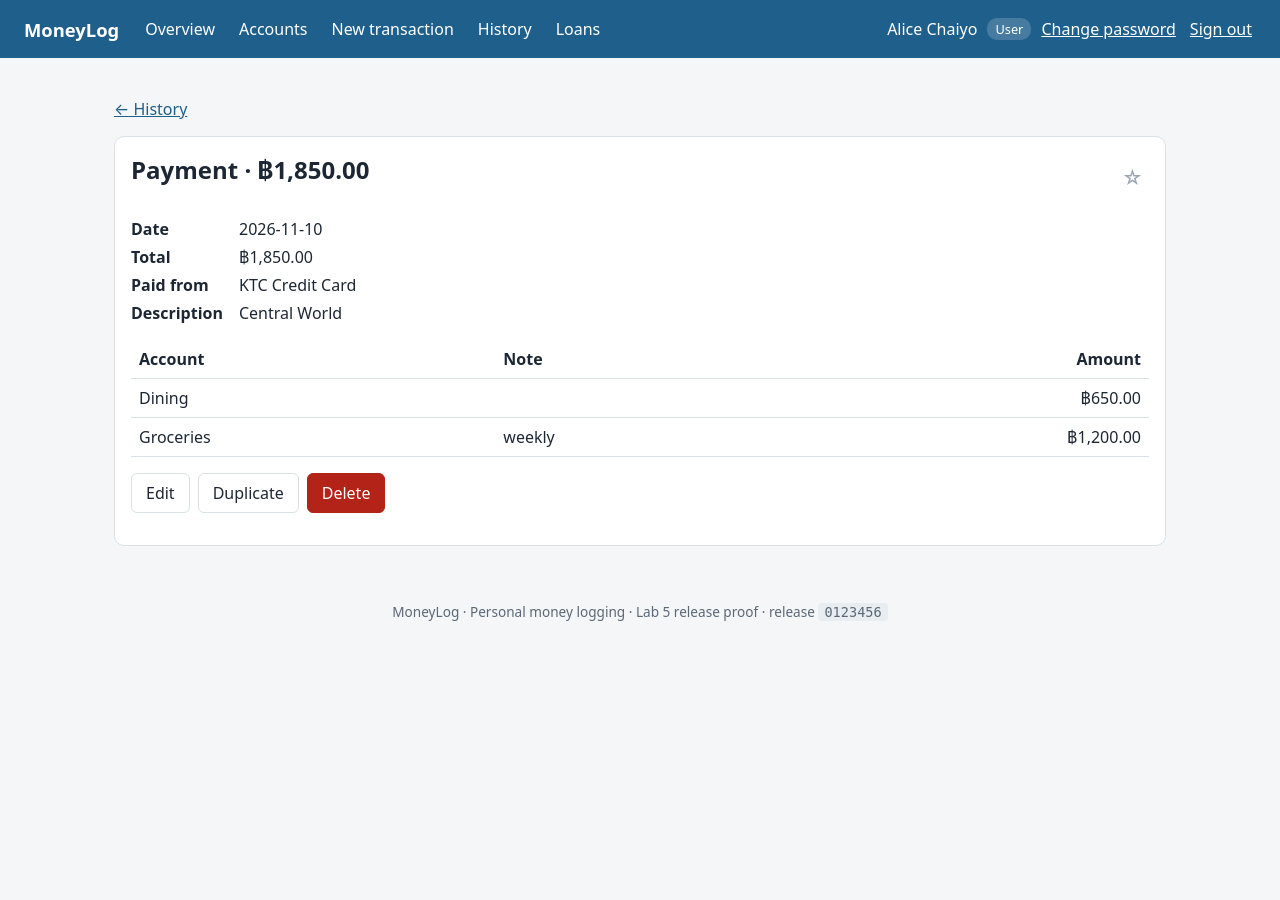
Test: TEST-77 edit and delete from the detail page (AC-57) › Delete asks for confirmation, then deletes and returns to History
Click the button "Delete" at (346, 493), box [307,473,386,513]
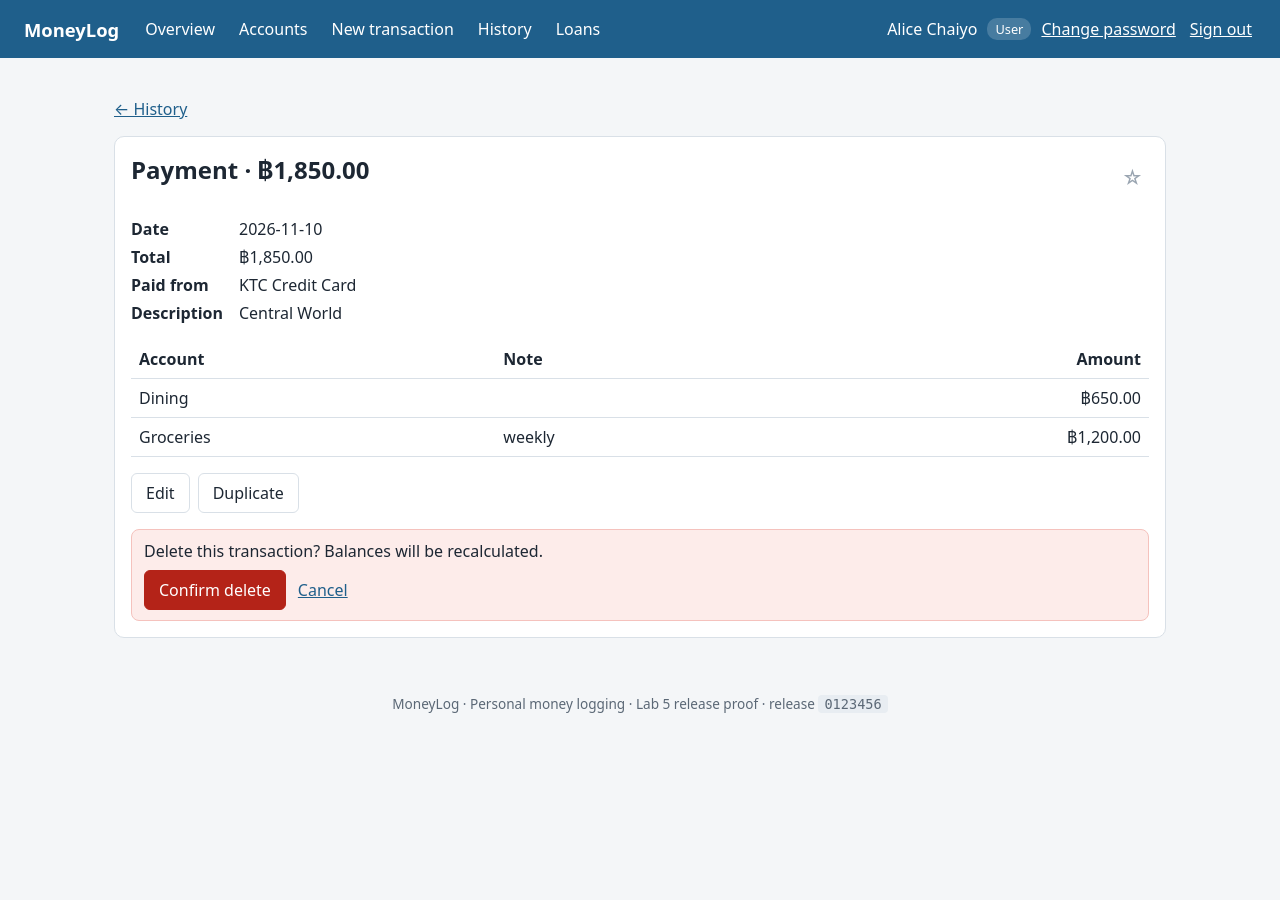
Check: the text "Delete this transaction? Balances will be recalculated." is shown, box [144,540,543,562]
Click the button "Confirm delete" at (215, 590), box [144,570,286,610]
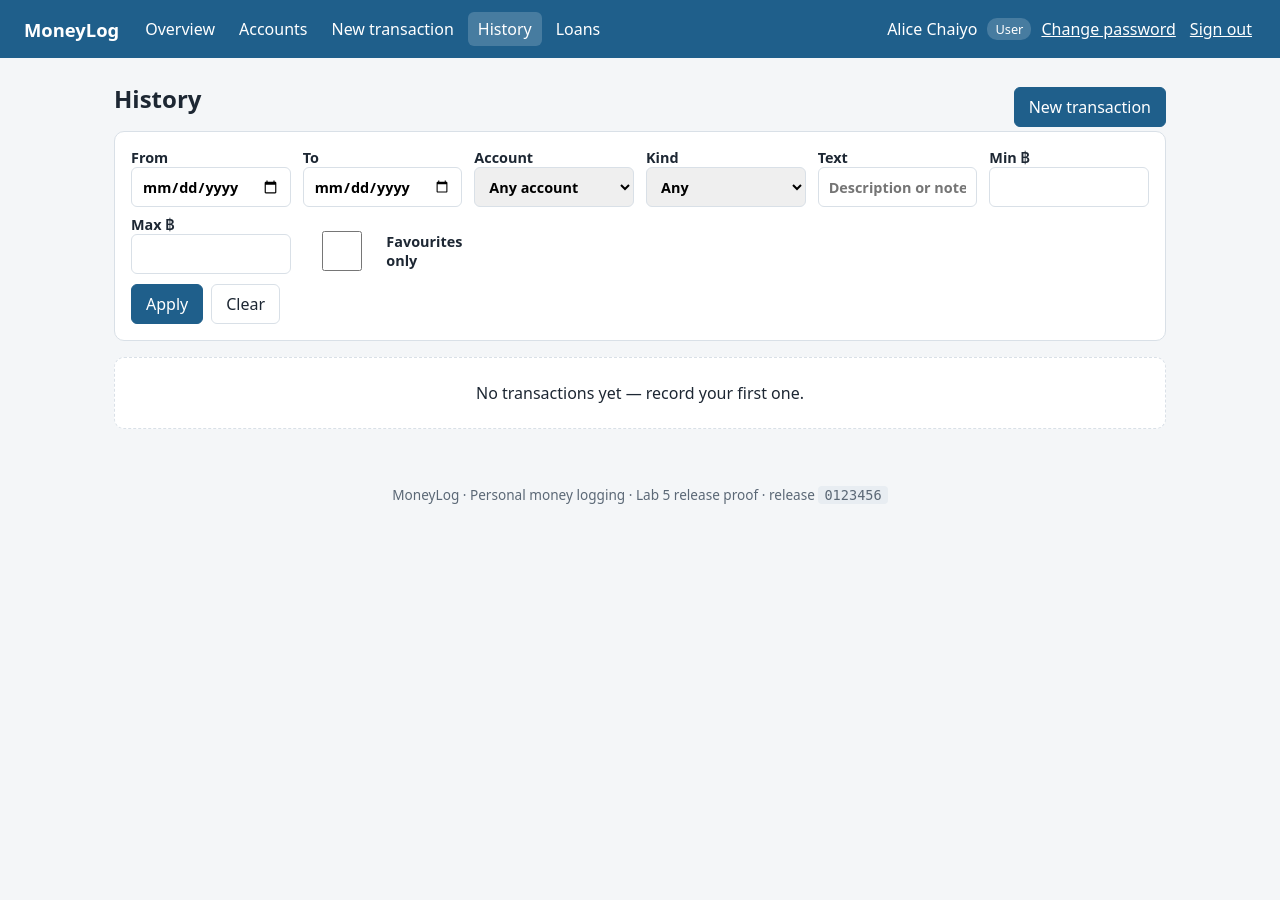
Check: the heading "History" is shown, box [114,82,201,115]
